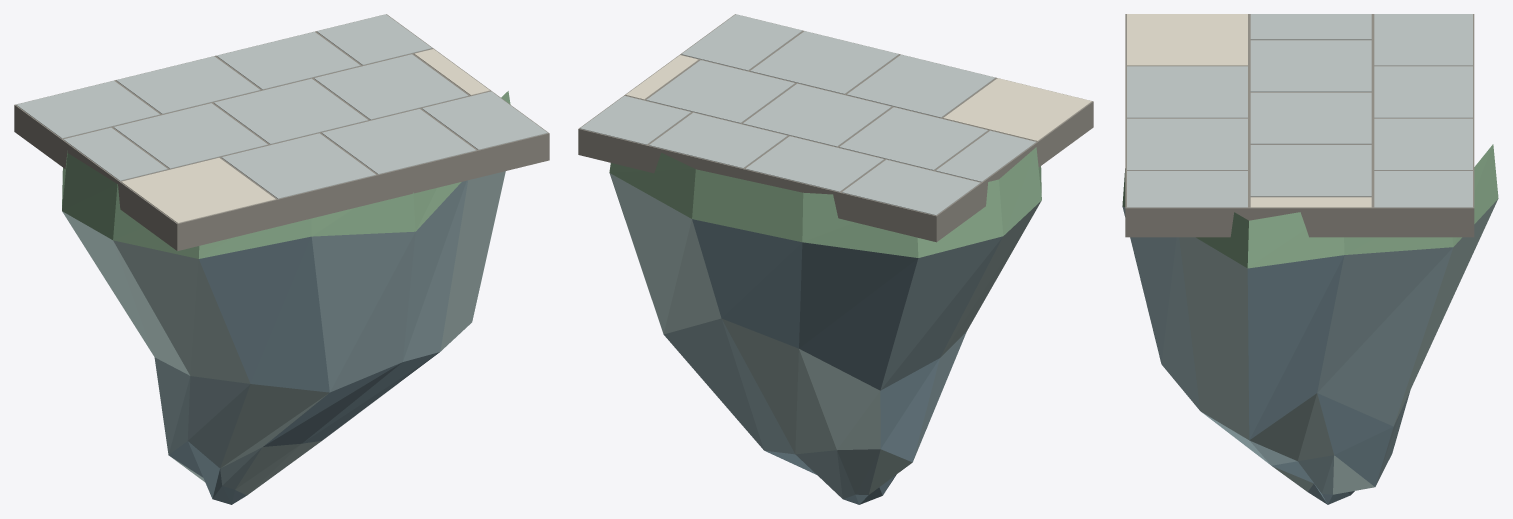
File: FloatingIsland02.glb
The picture shows the model from 3 angles, left to right: view 1: azimuth 30°, elevation 25°; view 2: azimuth 150°, elevation 25°; view 3: azimuth 270°, elevation 25°; orthographic projection. The views are drawn at different scales.
Visible parts, largest first — view 1: FloatingIsland02; view 2: FloatingIsland02; view 3: FloatingIsland02.
Boxes of the visible parts, x1,y1,x2,y2 form: FloatingIsland02: (14,14,549,504); FloatingIsland02: (578,14,1093,504); FloatingIsland02: (1122,14,1498,504).
Bounding box in the file's own units: 4.24 × 3.87 × 3.19.
